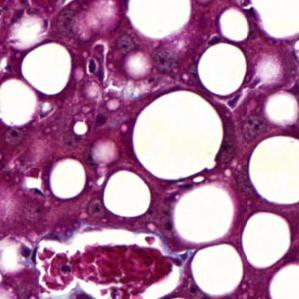steatosis: (134, 93, 226, 177), (240, 212, 295, 269), (21, 43, 77, 96), (193, 243, 246, 296), (197, 46, 252, 95), (100, 168, 152, 215), (45, 156, 87, 199)
